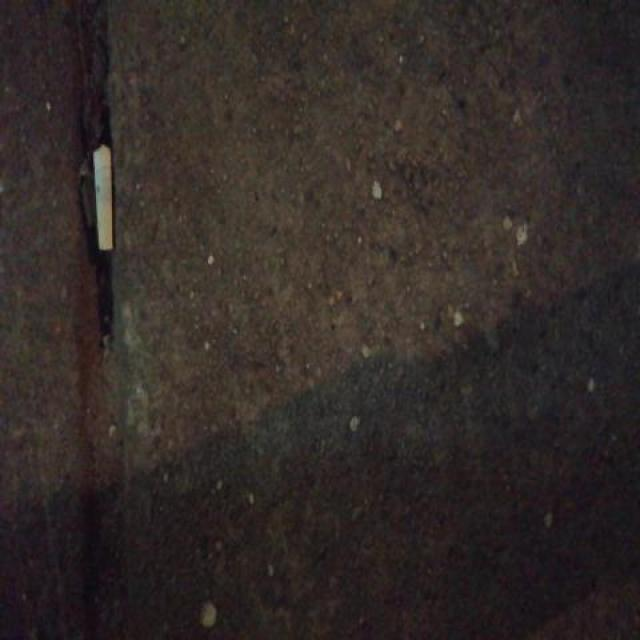non-organic waste: (89, 139, 115, 257)
